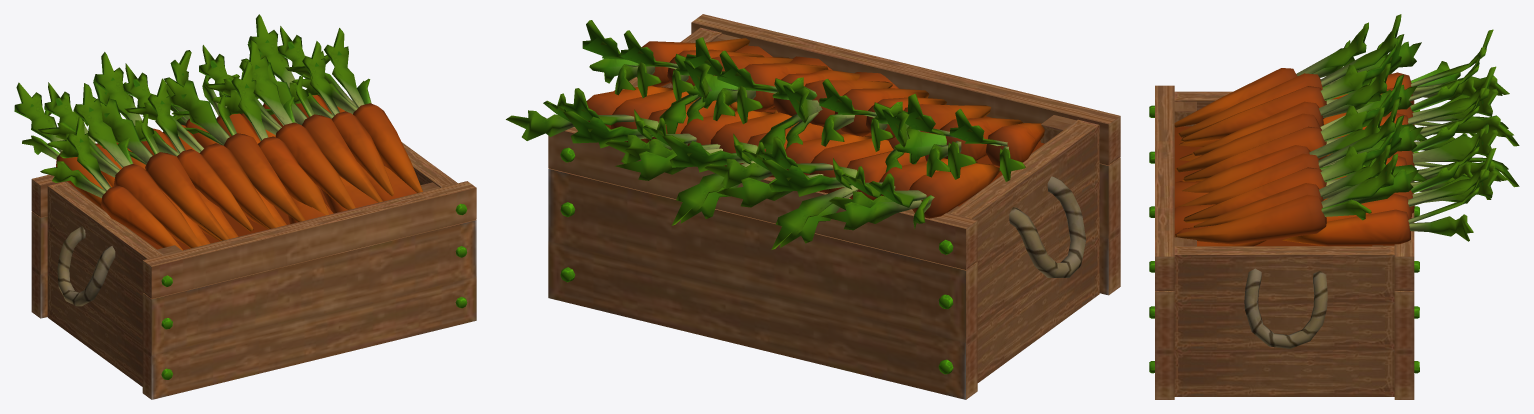
File: FarmCrate_Carrot.glb
3 views of the same model, side by side, from view 1: azimuth 30°, elevation 25°; view 2: azimuth 150°, elevation 25°; view 3: azimuth 270°, elevation 25° (orthographic). The views are drawn at different scales.
Parts seen in each view (by area): view 1: FarmCrate_Carrot; view 2: FarmCrate_Carrot; view 3: FarmCrate_Carrot.
Boxes of the visible parts, <box> form: FarmCrate_Carrot: <box>14,14,476,399</box>; FarmCrate_Carrot: <box>506,14,1120,399</box>; FarmCrate_Carrot: <box>1149,14,1519,399</box>.
Size of the model in its own units: 0.7138 by 0.4113 by 0.567.
Materials: 3 (3 with a texture image).
